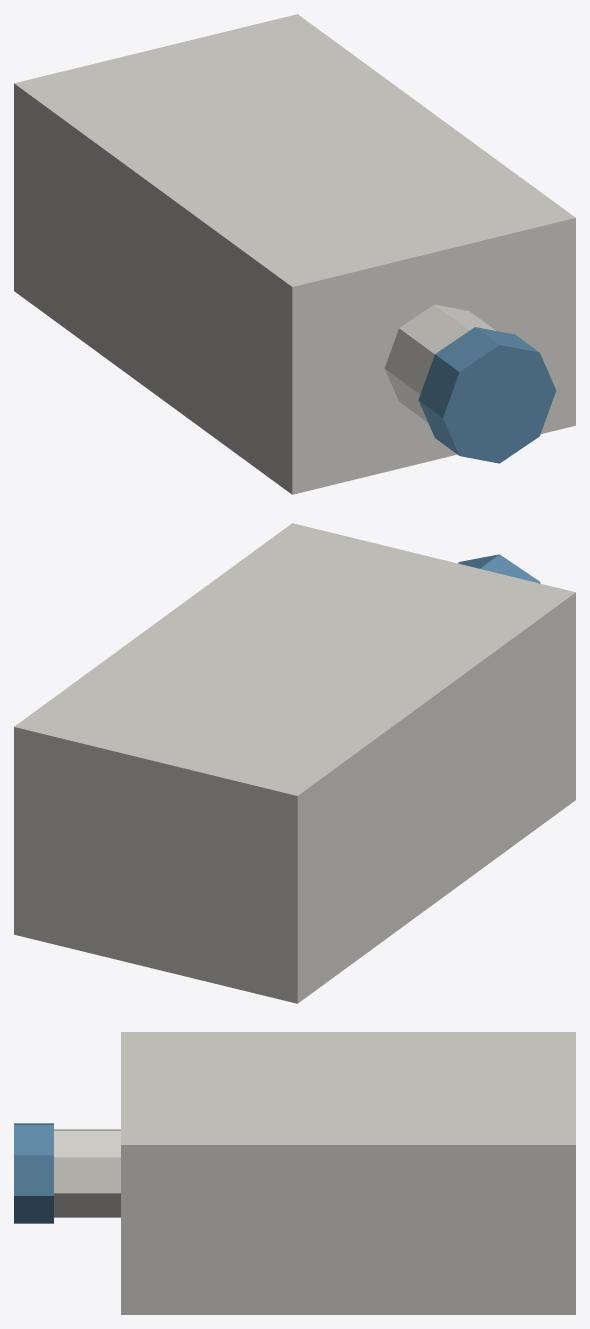
Rendered from milk.glb.
The picture shows the model from 3 angles, top to bottom: view 1: azimuth 30°, elevation 25°; view 2: azimuth 150°, elevation 25°; view 3: azimuth 270°, elevation 25°; orthographic projection. The views are drawn at different scales.
Parts seen in each view (by area): view 1: 00_package, 04_cap, 03_carton_neck; view 2: 00_package, 04_cap; view 3: 00_package, 03_carton_neck, 04_cap.
Part boxes in pixels (box(x1,y1,x2,y2)): 00_package: box(14, 14, 575, 494); 04_cap: box(418, 327, 556, 463); 03_carton_neck: box(384, 304, 495, 422); 00_package: box(14, 523, 575, 1003); 04_cap: box(458, 554, 540, 583); 00_package: box(121, 1032, 575, 1314); 03_carton_neck: box(54, 1129, 120, 1217); 04_cap: box(14, 1123, 53, 1223).
Size of the model in its own units: 0.2 by 0.153 by 0.42.
